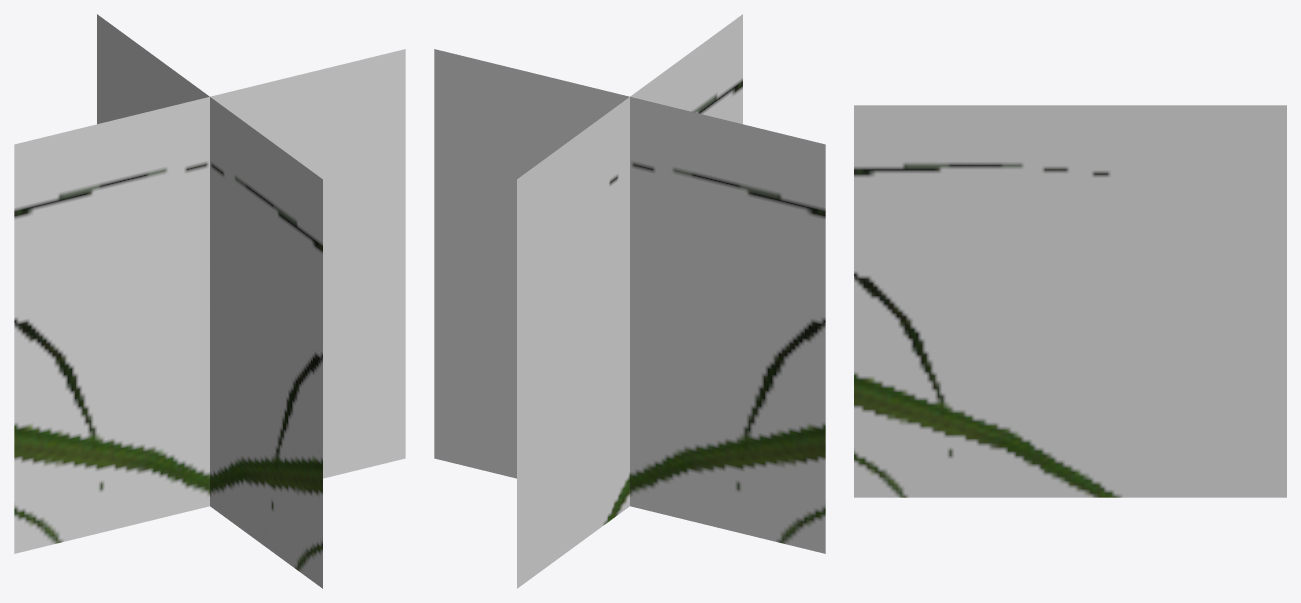
File: Foliage01_Grass_LowPoly_AnnaMetreveli.fbx
3 views of the same model, side by side, from view 1: azimuth 30°, elevation 25°; view 2: azimuth 150°, elevation 25°; view 3: azimuth 270°, elevation 25° (orthographic). The views are drawn at different scales.
Visible parts, largest first — view 1: Grass01, Grass02; view 2: Grass01, Grass02; view 3: Grass02.
Part boxes in pixels (x1,y1,x2,y2): Grass01: (14, 49, 405, 553); Grass02: (97, 14, 322, 588); Grass01: (434, 49, 825, 553); Grass02: (517, 14, 742, 588); Grass02: (854, 105, 1286, 497).
Size of the model in its own units: 50.04 by 50 by 50.04.
Materials: 1 (1 with a texture image).
